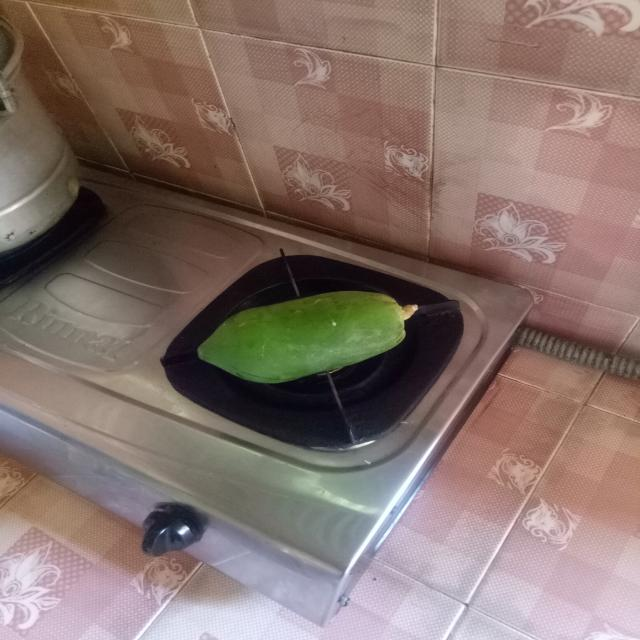Pepaya unrippen: (192, 287, 408, 380)
